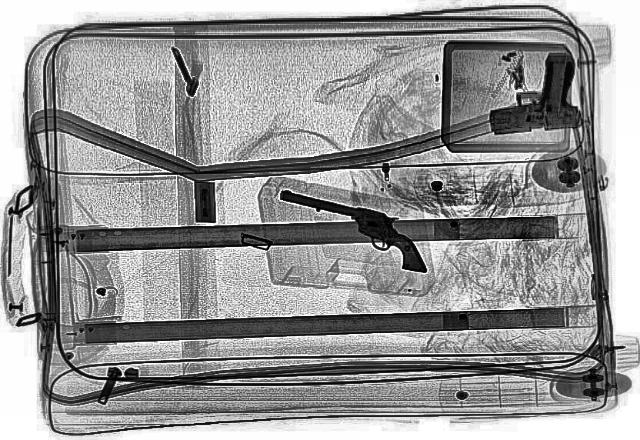Gun: (256, 186, 456, 274), (490, 50, 580, 134)
